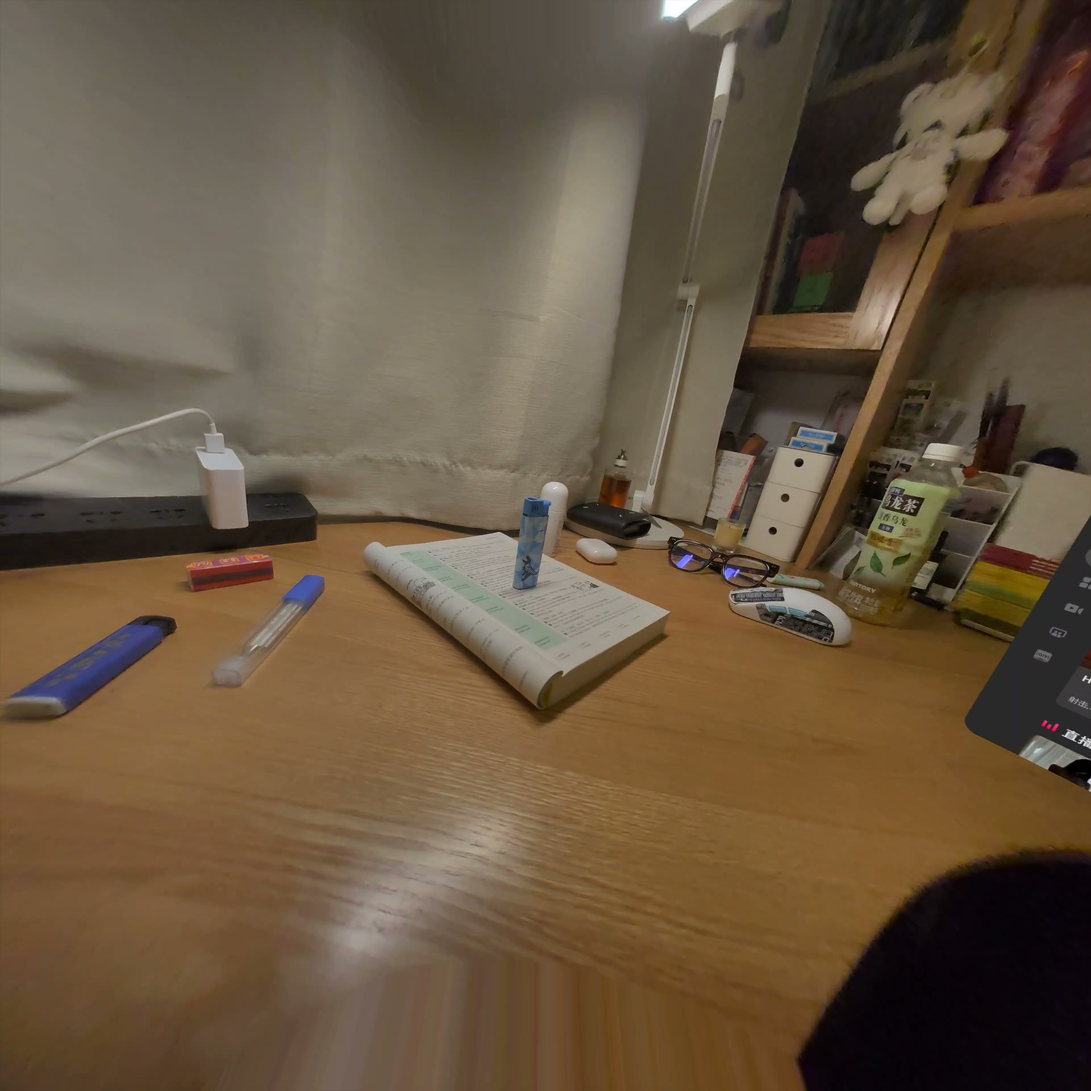lighter: (512, 498, 550, 589)
